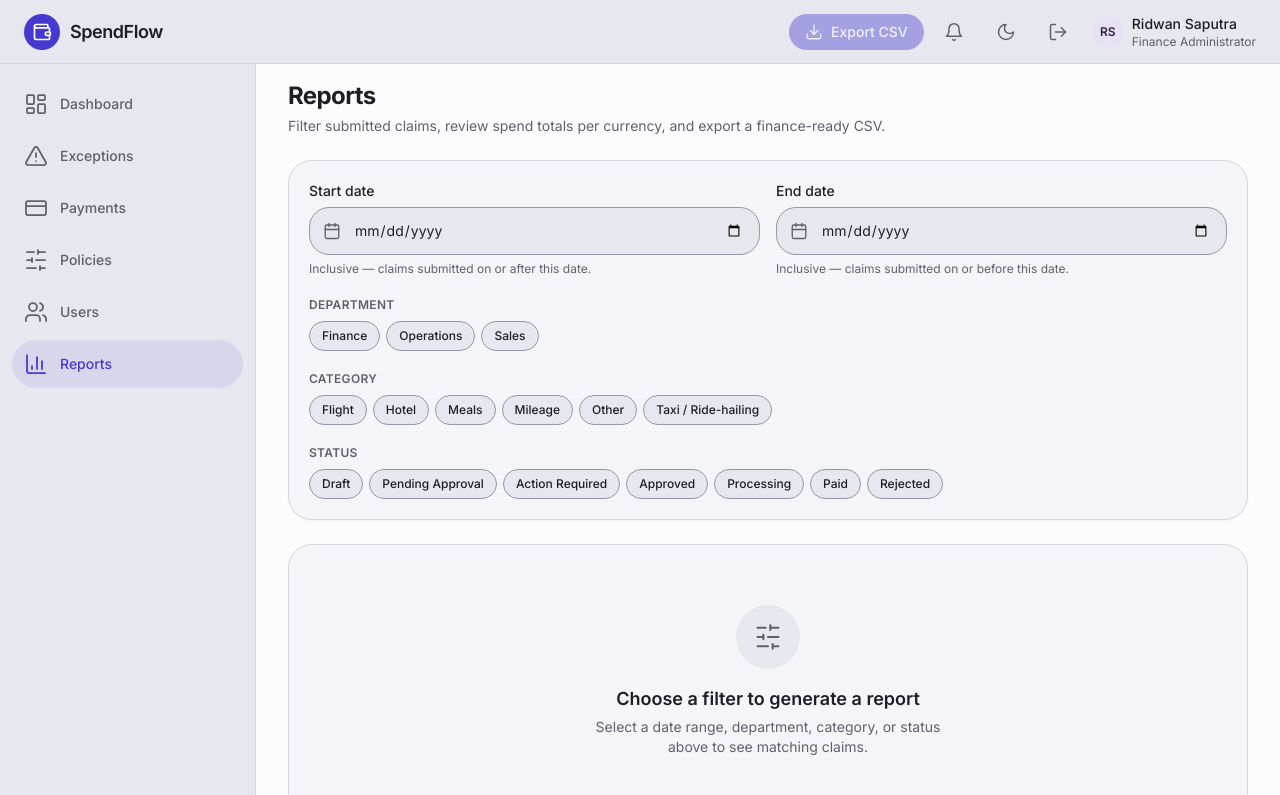
Test: Reports page — per-currency totals › renders per-currency totals and claim count for the active filter set
Expected: the heading "Choose a filter to generate a report" is shown, [616, 685, 920, 713]
Click the button "Approved".
click(667, 484)  # box [626, 469, 708, 499]
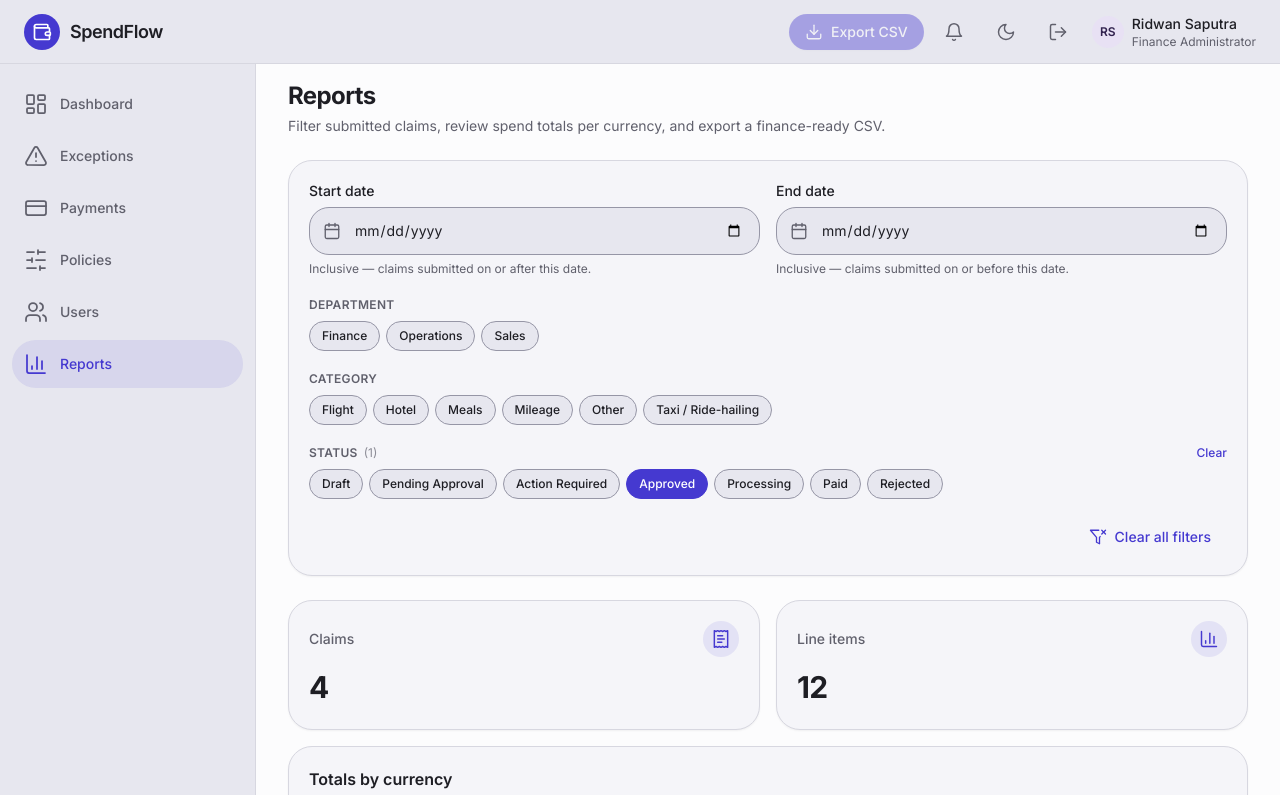
Now the text "4" is shown, box [309, 669, 328, 705]
